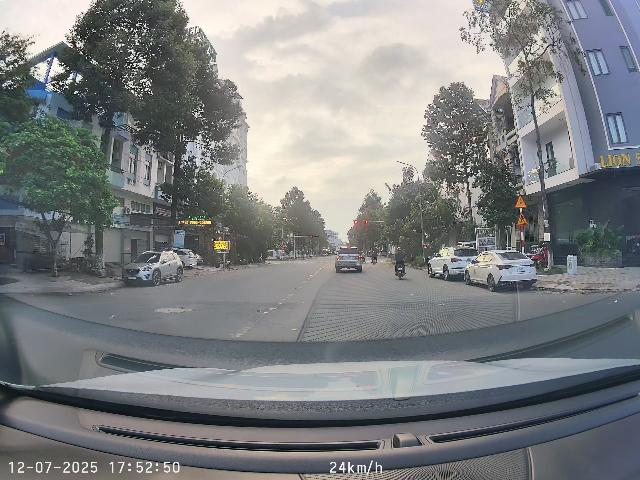209-giao-nhau-co-tin-hieu-den: (515, 194, 527, 208)
224-duong-nguoi-di-bo-cat-ngang: (516, 212, 529, 226)
